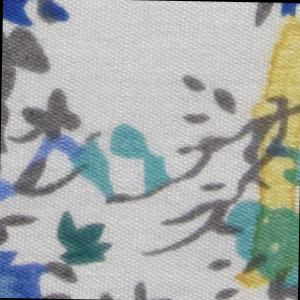Oil Stain: (229, 12, 300, 292)
